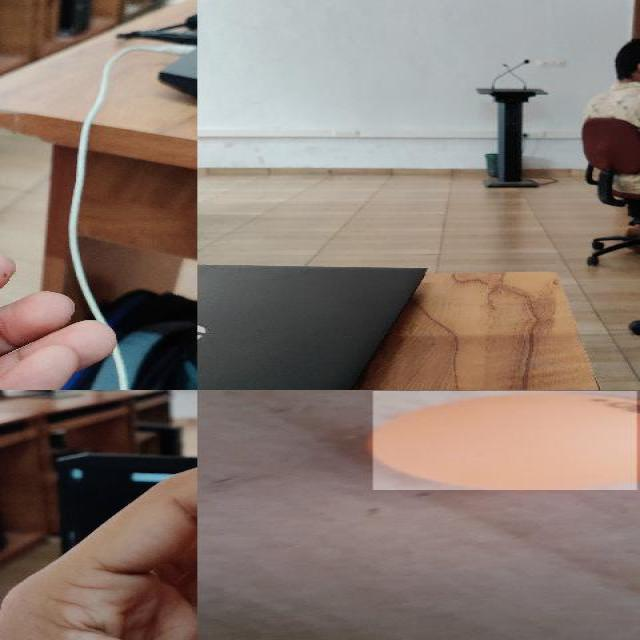ping-pong-ball: (373, 391, 639, 490)
